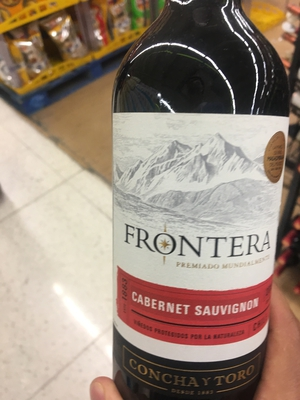frontera cabernet sauvignon: (100, 13, 290, 400)
